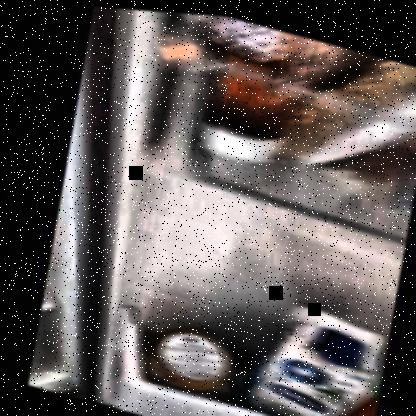milk: (246, 291, 386, 415)
